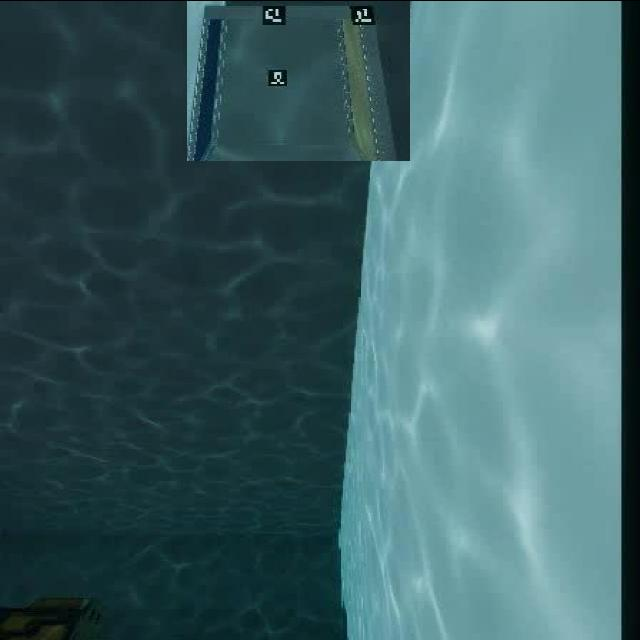Docking Station: (187, 0, 410, 160)
